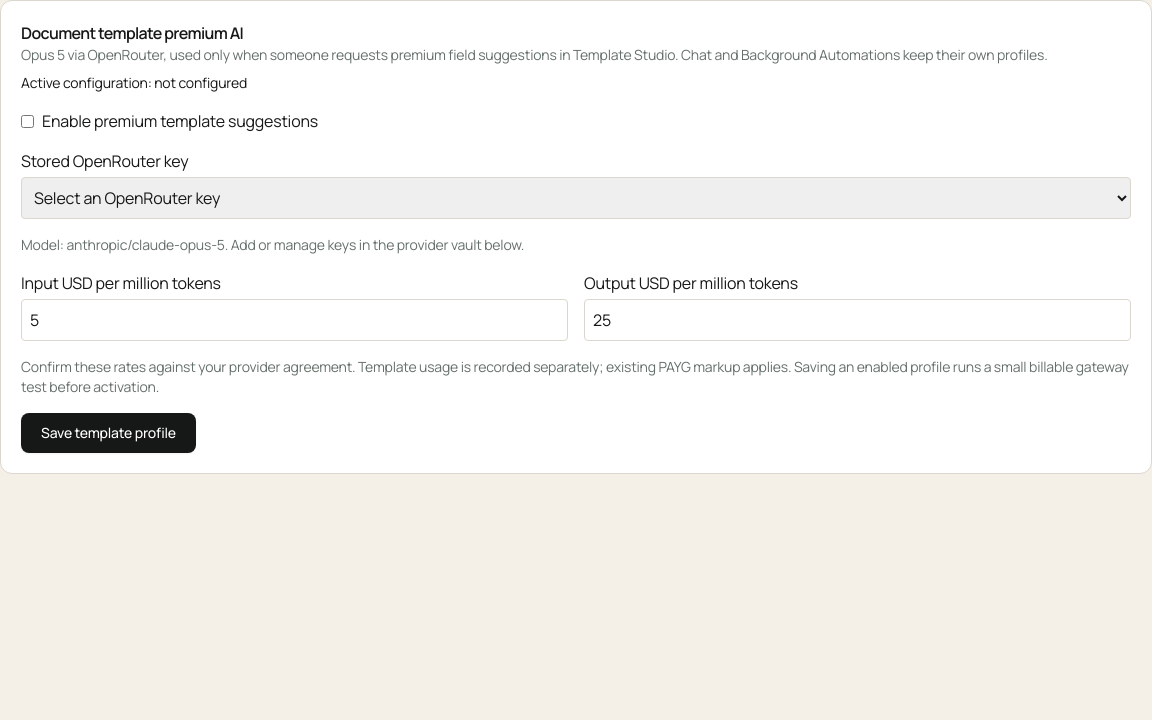
shows activation errors without claiming the new configuration is active
What coordinates should you click on to do the following:
click the button "Save template profile"
I would click on:
 (108, 433)
Its box is x1=21 y1=413 x2=196 y2=453.
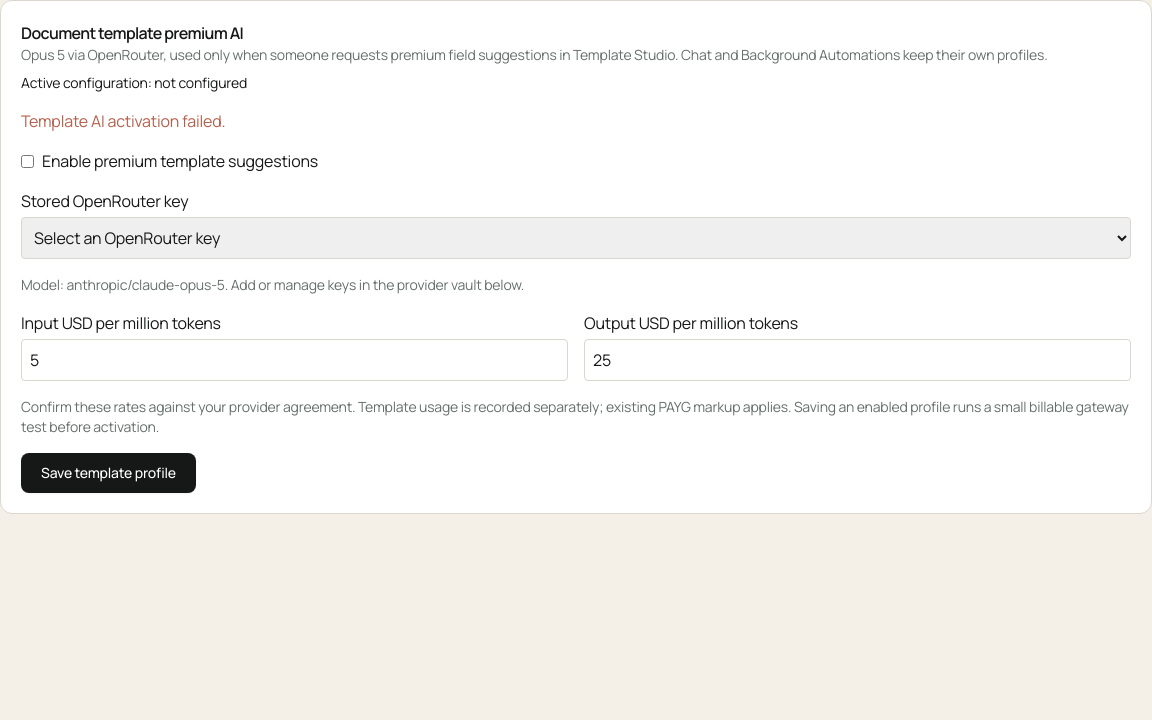
expect the text "Active configuration: not configured" is shown: met, box x1=21 y1=73 x2=247 y2=92
expect the message reads "Template AI activation failed.": met, box x1=21 y1=110 x2=225 y2=132
